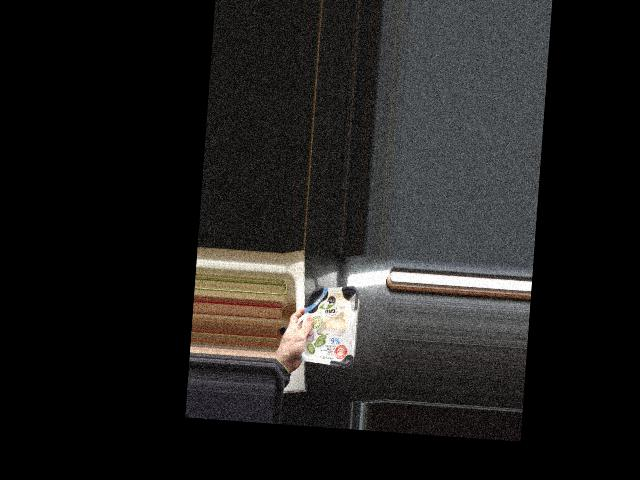cheese: (294, 284, 359, 367)
